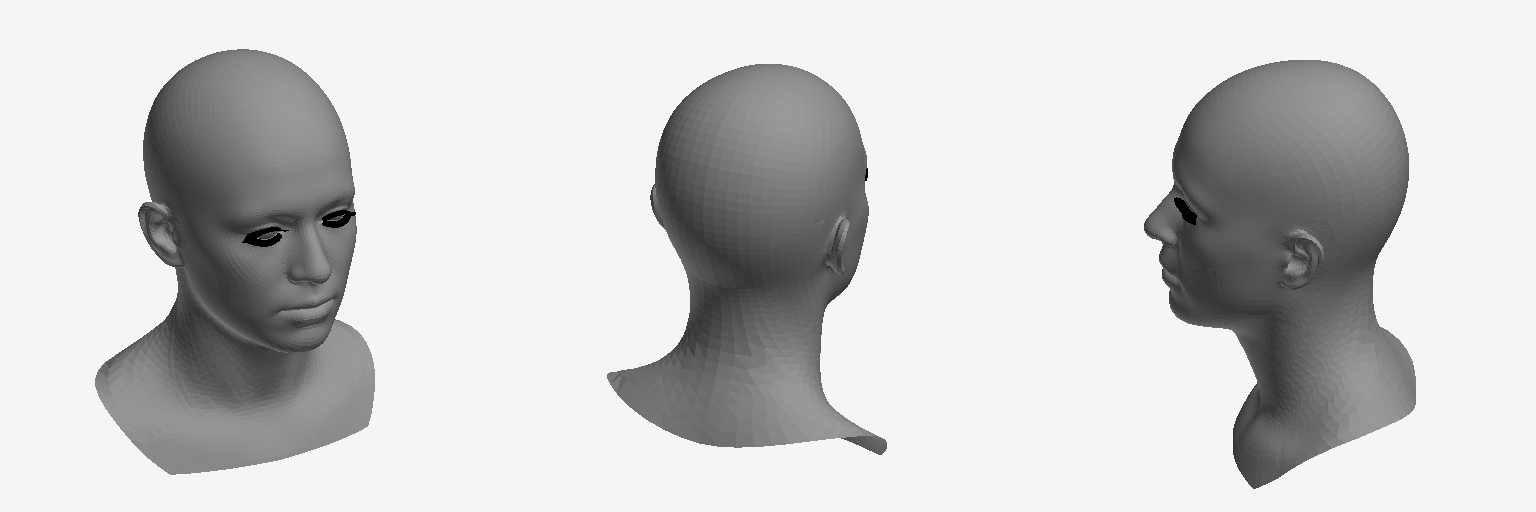
The model's file is eyeSquint_L.obj.
3 renders of one model, left to right at view 1: azimuth 30°, elevation 25°; view 2: azimuth 150°, elevation 25°; view 3: azimuth 270°, elevation 25°, orthographic.
Bounding box in the file's own units: 24.83 × 33.81 × 22.32.